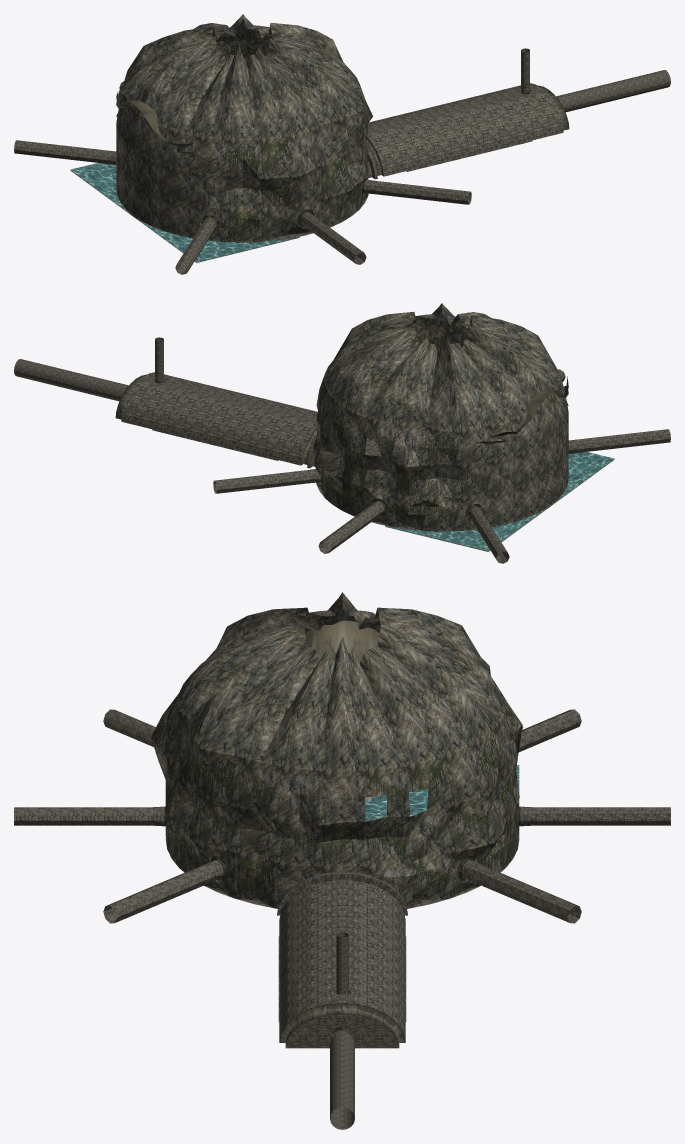
3 views of the same model, one above another, from view 1: azimuth 30°, elevation 25°; view 2: azimuth 150°, elevation 25°; view 3: azimuth 270°, elevation 25° (orthographic). The views are drawn at different scales.
Parts seen in each view (by area): view 1: Mesh_0076_Tex_0005_0.dds_0, Mesh_0109_Tex_0010_0.dds_0, Mesh_0071_Tex_0005_0.dds_0, Mesh_0083_Tex_0005_0.dds_0, Mesh_0069_Tex_0010_0.dds_0, Mesh_0082_Tex_0011_0.dds_0, Mesh_0075_Tex_0015_0.dds_0, Mesh_0205_Material #26_0, Mesh_0084_Tex_0012_0.dds_0, Mesh_0072_Tex_0012_0.dds_0, Mesh_0074_Tex_0014_0.dds_0, Mesh_0085_Tex_0013_0.dds_0 (+8 smaller); view 2: Mesh_0076_Tex_0005_0.dds_0, Mesh_0109_Tex_0010_0.dds_0, Mesh_0071_Tex_0005_0.dds_0, Mesh_0083_Tex_0005_0.dds_0, Mesh_0069_Tex_0010_0.dds_0, Mesh_0082_Tex_0011_0.dds_0, Mesh_0205_Material #26_0, Mesh_0072_Tex_0012_0.dds_0, Mesh_0086_Tex_0014_0.dds_0, Mesh_0074_Tex_0014_0.dds_0, Mesh_0070_Tex_0011_0.dds_0, Mesh_0085_Tex_0013_0.dds_0 (+8 smaller); view 3: Mesh_0076_Tex_0005_0.dds_0, Mesh_0109_Tex_0010_0.dds_0, Mesh_0073_Tex_0013_0.dds_0, Mesh_0069_Tex_0010_0.dds_0, Mesh_0071_Tex_0005_0.dds_0, Mesh_0070_Tex_0011_0.dds_0, Mesh_0074_Tex_0014_0.dds_0, Mesh_0081_Tex_0010_0.dds_0, Mesh_0120_Tex_0010_0.dds_0, Mesh_0075_Tex_0015_0.dds_0, Mesh_0085_Tex_0013_0.dds_0, Mesh_0086_Tex_0014_0.dds_0 (+7 smaller).
Part boxes in pixels (left/top/right/bottom): Mesh_0076_Tex_0005_0.dds_0: left=119, top=14, right=361, bottom=140; Mesh_0109_Tex_0010_0.dds_0: left=367, top=70, right=670, bottom=176; Mesh_0071_Tex_0005_0.dds_0: left=116, top=41, right=368, bottom=241; Mesh_0083_Tex_0005_0.dds_0: left=116, top=131, right=368, bottom=241; Mesh_0069_Tex_0010_0.dds_0: left=14, top=81, right=471, bottom=268; Mesh_0082_Tex_0011_0.dds_0: left=116, top=125, right=258, bottom=242; Mesh_0075_Tex_0015_0.dds_0: left=226, top=136, right=350, bottom=219; Mesh_0205_Material #26_0: left=70, top=163, right=299, bottom=262; Mesh_0084_Tex_0012_0.dds_0: left=126, top=117, right=372, bottom=242; Mesh_0072_Tex_0012_0.dds_0: left=123, top=78, right=368, bottom=216; Mesh_0074_Tex_0014_0.dds_0: left=226, top=40, right=368, bottom=209; Mesh_0085_Tex_0013_0.dds_0: left=259, top=101, right=372, bottom=241; Mesh_0076_Tex_0005_0.dds_0: left=324, top=303, right=559, bottom=431; Mesh_0109_Tex_0010_0.dds_0: left=14, top=359, right=317, bottom=465; Mesh_0071_Tex_0005_0.dds_0: left=316, top=330, right=568, bottom=531; Mesh_0083_Tex_0005_0.dds_0: left=358, top=415, right=568, bottom=527; Mesh_0069_Tex_0010_0.dds_0: left=213, top=369, right=670, bottom=557; Mesh_0082_Tex_0011_0.dds_0: left=316, top=420, right=567, bottom=530; Mesh_0205_Material #26_0: left=385, top=452, right=614, bottom=551; Mesh_0072_Tex_0012_0.dds_0: left=315, top=399, right=558, bottom=496; Mesh_0086_Tex_0014_0.dds_0: left=315, top=342, right=458, bottom=530; Mesh_0074_Tex_0014_0.dds_0: left=320, top=327, right=458, bottom=527; Mesh_0070_Tex_0011_0.dds_0: left=317, top=406, right=489, bottom=522; Mesh_0085_Tex_0013_0.dds_0: left=317, top=421, right=490, bottom=531; Mesh_0076_Tex_0005_0.dds_0: left=177, top=592, right=507, bottom=771; Mesh_0109_Tex_0010_0.dds_0: left=279, top=880, right=405, bottom=1117; Mesh_0073_Tex_0013_0.dds_0: left=179, top=702, right=522, bottom=907; Mesh_0069_Tex_0010_0.dds_0: left=14, top=709, right=670, bottom=917; Mesh_0071_Tex_0005_0.dds_0: left=167, top=711, right=519, bottom=886; Mesh_0070_Tex_0011_0.dds_0: left=151, top=693, right=523, bottom=908; Mesh_0074_Tex_0014_0.dds_0: left=200, top=666, right=517, bottom=872; Mesh_0081_Tex_0010_0.dds_0: left=14, top=721, right=670, bottom=923; Mesh_0120_Tex_0010_0.dds_0: left=285, top=932, right=399, bottom=1129; Mesh_0075_Tex_0015_0.dds_0: left=165, top=757, right=517, bottom=868; Mesh_0085_Tex_0013_0.dds_0: left=167, top=725, right=522, bottom=900; Mesh_0086_Tex_0014_0.dds_0: left=168, top=753, right=519, bottom=872.
Size of the model in its own units: 371 by 99.61 by 264.
Materials: 32 (32 with a texture image).
